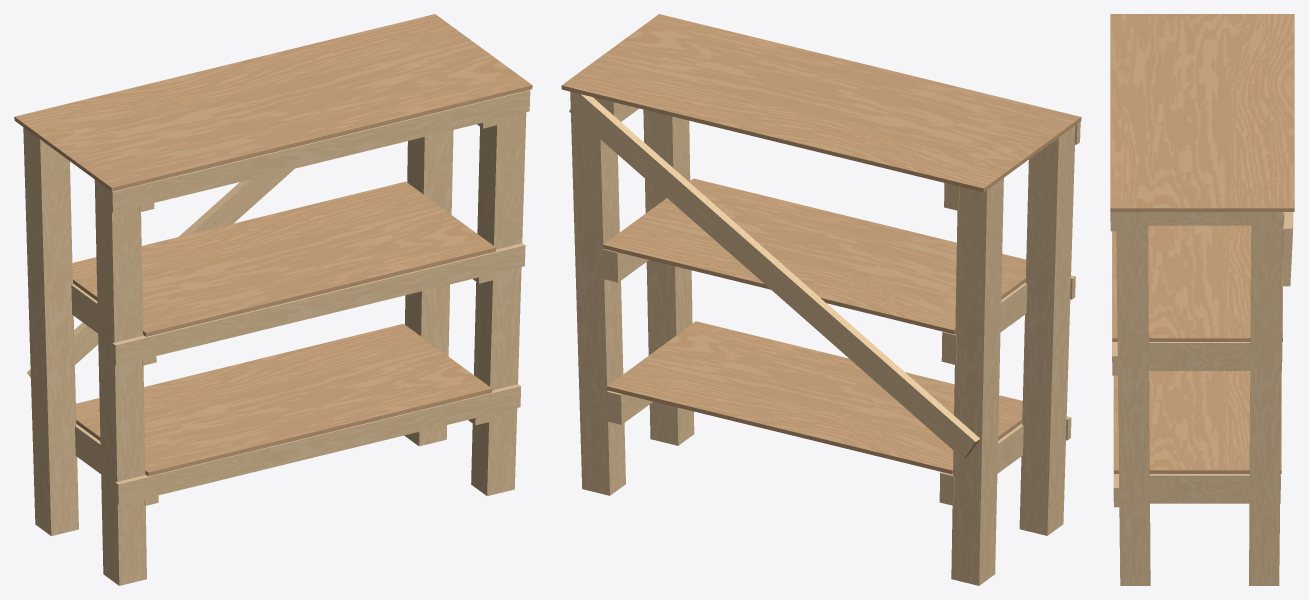
File: Wooden_Self_1.fbx
3 renders of one model, left to right at view 1: azimuth 30°, elevation 25°; view 2: azimuth 150°, elevation 25°; view 3: azimuth 270°, elevation 25°, orthographic. The views are drawn at different scales.
Visible parts, largest first — view 1: Shelf_1_Shelves, Shelf_1_Frame; view 2: Shelf_1_Shelves, Shelf_1_Frame; view 3: Shelf_1_Shelves, Shelf_1_Frame.
Part boxes in pixels (x1,y1,x2,y2): Shelf_1_Shelves: (14, 14, 532, 476); Shelf_1_Frame: (23, 90, 530, 585); Shelf_1_Shelves: (561, 14, 1081, 474); Shelf_1_Frame: (569, 91, 1080, 585); Shelf_1_Shelves: (1110, 14, 1294, 473); Shelf_1_Frame: (1110, 212, 1293, 585).
Bounding box in the file's own units: 148 × 136 × 59.37.
2 materials, 2 textured.
